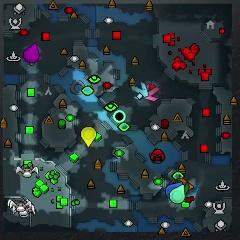p1: (166, 182, 182, 197)
p2: (170, 185, 186, 204)
p2Clone: (113, 110, 126, 122)
p3: (25, 44, 39, 62)
p4: (81, 126, 96, 146)
p5: (176, 178, 193, 190)
x1: (147, 87, 159, 103)
x3: (131, 83, 148, 98)
x4: (184, 182, 189, 194)
